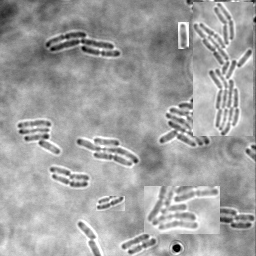Dividing: (52, 175, 89, 189), (128, 238, 157, 255), (96, 196, 125, 211), (178, 22, 189, 49)
Microcolony: (193, 2, 253, 136), (144, 186, 220, 234), (76, 137, 139, 168), (45, 32, 121, 57), (18, 120, 61, 155), (221, 208, 255, 229)
Rod: (121, 233, 150, 251), (78, 222, 99, 240), (50, 167, 72, 177), (69, 174, 90, 183)
